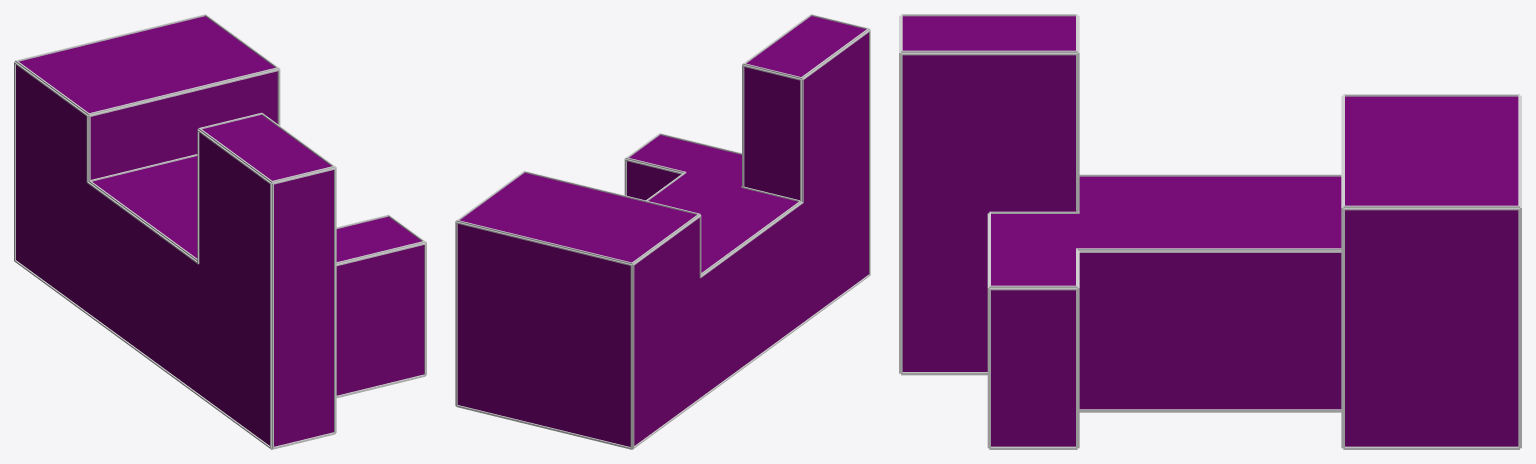
File: PecaD.glb
The picture shows the model from 3 angles, left to right: view 1: azimuth 30°, elevation 25°; view 2: azimuth 150°, elevation 25°; view 3: azimuth 270°, elevation 25°; orthographic projection. The views are drawn at different scales.
Parts seen in each view (by area): view 1: Sólido1; view 2: Sólido1; view 3: Sólido1.
Part boxes in pixels (box(x1,y1,x2,y2)): Sólido1: box(14, 14, 426, 449); Sólido1: box(455, 14, 870, 449); Sólido1: box(899, 14, 1521, 449).
Bounding box in the file's own units: 0.0152 × 0.0202 × 0.0352.
